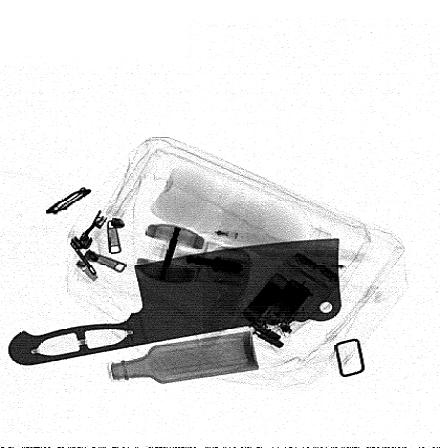Knife: (7, 237, 342, 368)
